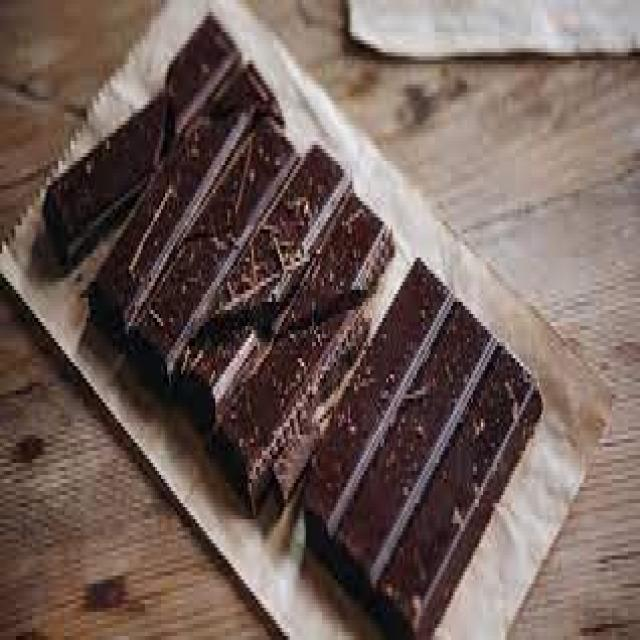Chocolate: (41, 10, 545, 640)
